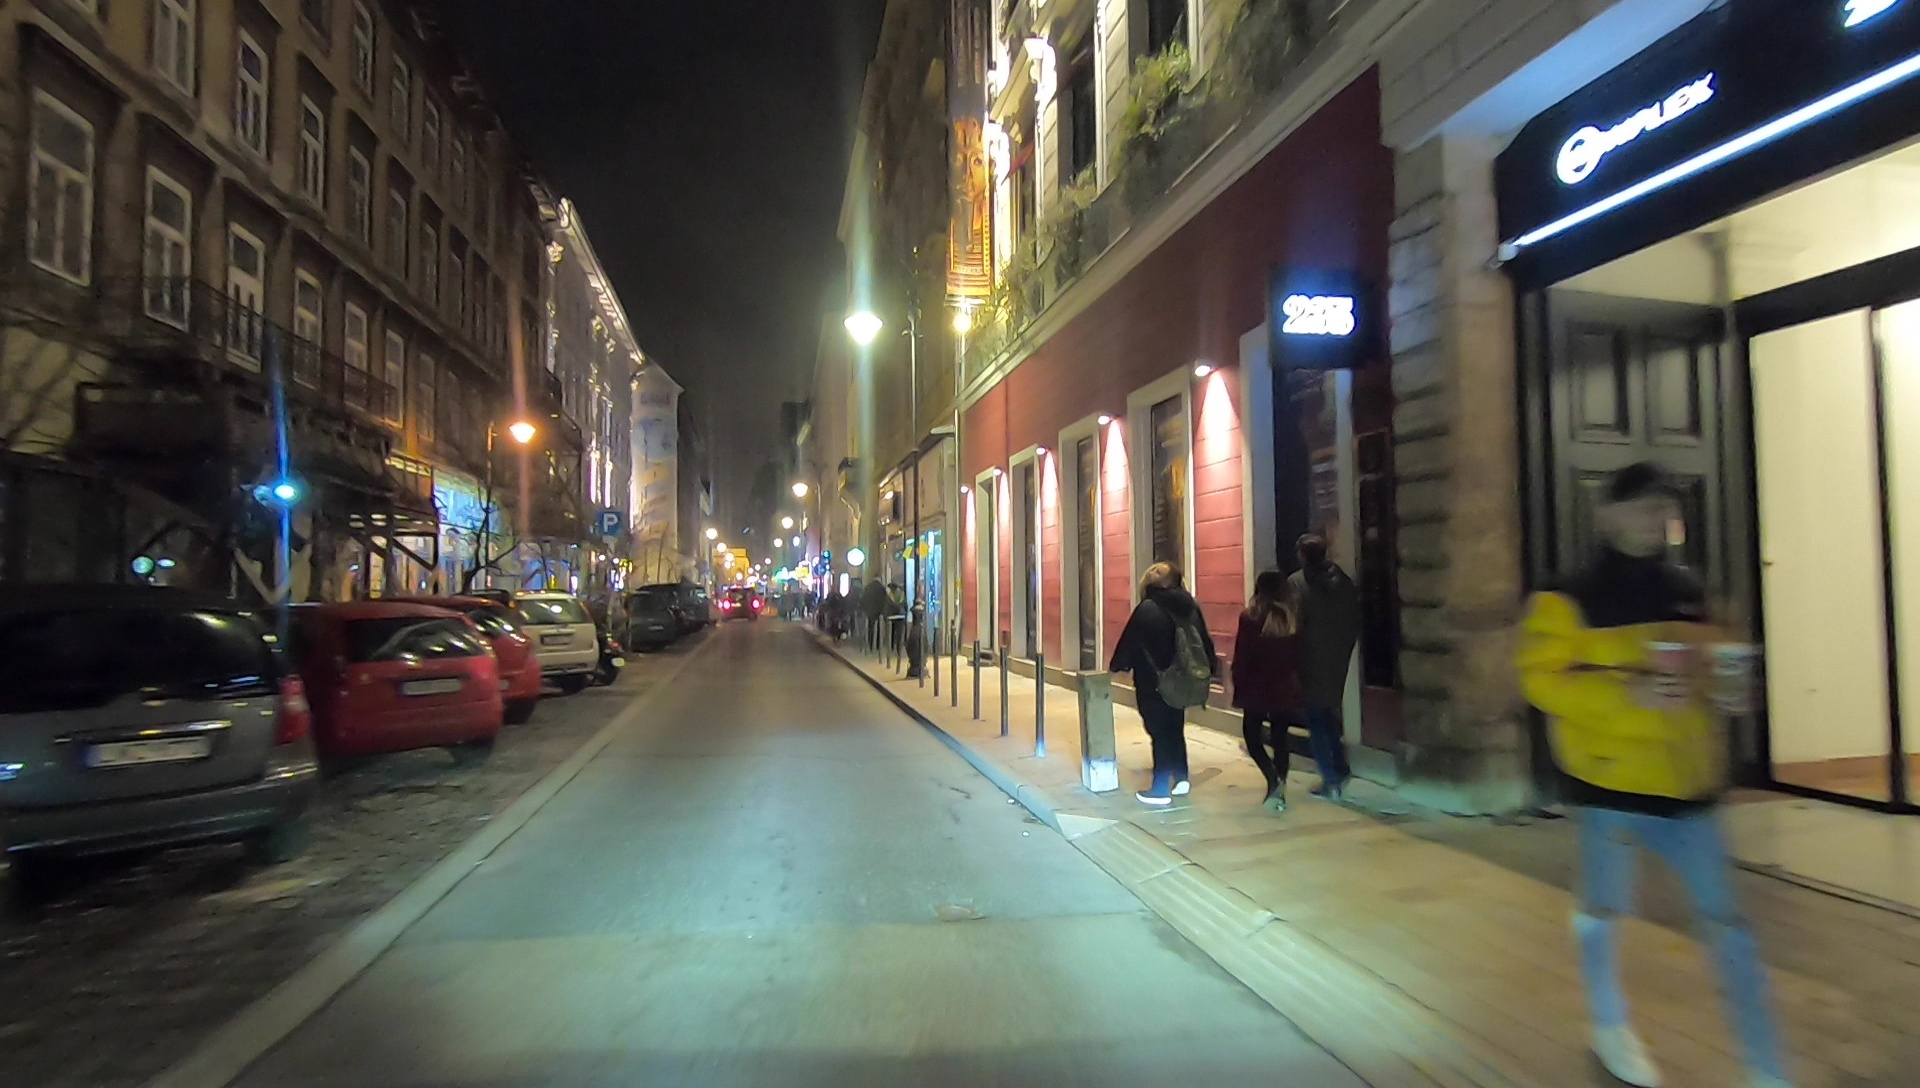person: (1526, 456, 1786, 1082), (1117, 556, 1214, 804), (1289, 532, 1362, 806), (1234, 560, 1299, 804), (863, 570, 885, 648), (885, 579, 907, 649)
